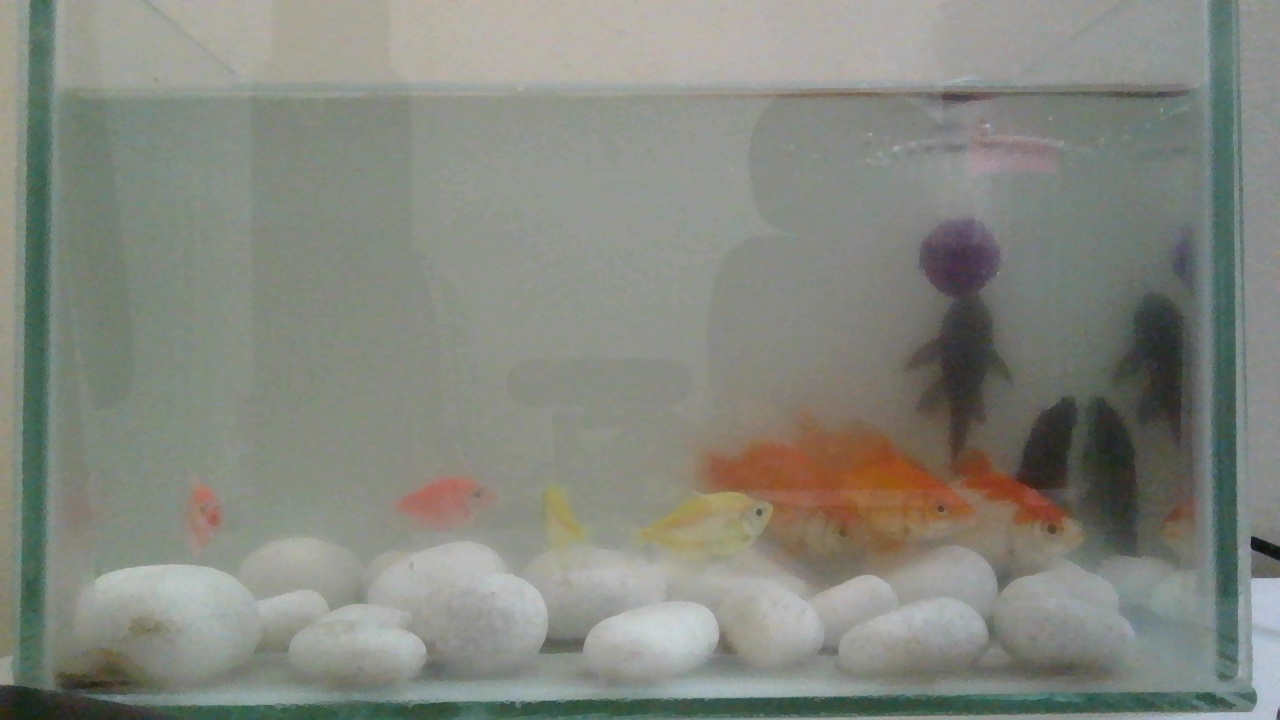fish: (907, 210, 1017, 471), (387, 471, 492, 542), (185, 473, 227, 557)
